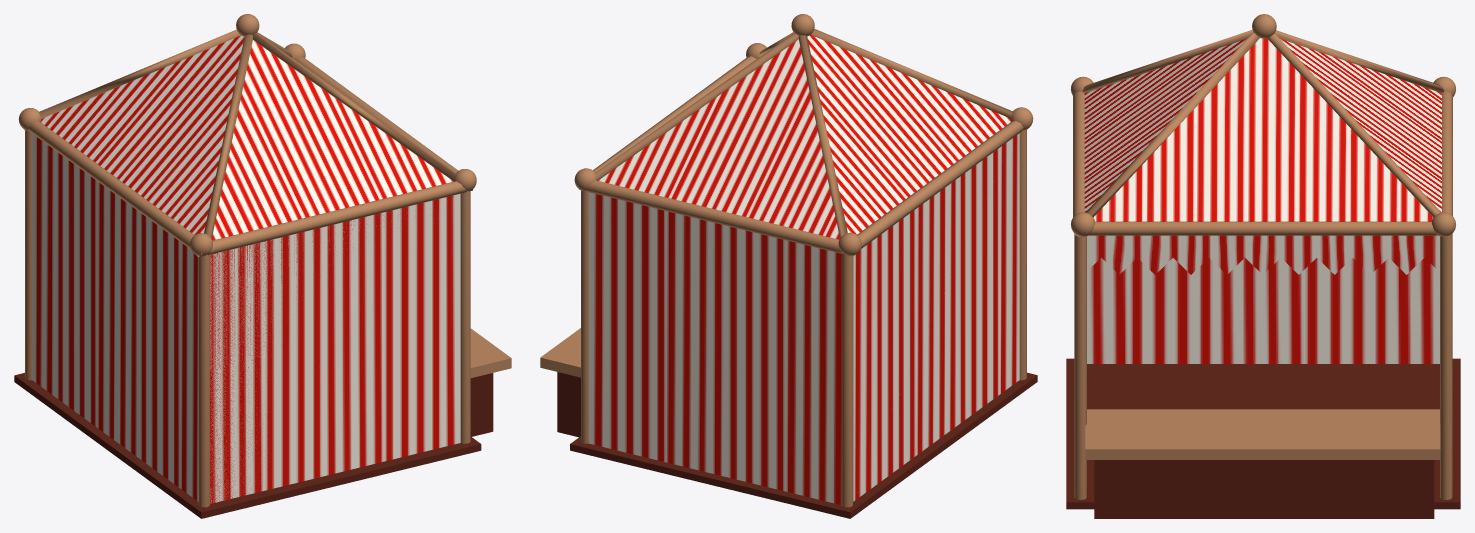
File: carnival_booth_3.fbx
3 views of the same model, side by side, from view 1: azimuth 30°, elevation 25°; view 2: azimuth 150°, elevation 25°; view 3: azimuth 270°, elevation 25° (orthographic). The views are drawn at different scales.
Visible parts, largest first — view 1: Plane.007, Cylinder.006, Cube.004, Cylinder.005, Cylinder.007, Cylinder.008, Cube.002, Icosphere.003, Cube.003; view 2: Plane.007, Cylinder.006, Cube.004, Cylinder.005, Cylinder.007, Cylinder.008, Cube.002, Icosphere.003, Cube.003; view 3: Plane.007, Cube.002, Cube.004, Cube.003, Cylinder.005, Cylinder.006, Cylinder.007, Cylinder.008, Icosphere.003, Icosphere.002.
Boxes of the visible parts, x1,y1,x2,y2 form: Plane.007: (32,35,460,503); Cylinder.006: (25,130,470,507); Cube.004: (14,373,481,518); Cylinder.005: (39,29,456,238); Cylinder.007: (28,57,458,249); Cylinder.008: (24,129,472,257); Cube.002: (470,373,493,436); Icosphere.003: (18,43,476,255); Cube.003: (470,328,511,377); Plane.007: (589,35,1019,504); Cylinder.006: (581,129,1026,507); Cube.004: (570,372,1037,518); Cylinder.005: (595,29,1012,237); Cylinder.007: (593,56,1023,248); Cylinder.008: (579,128,1028,256); Cube.002: (557,372,580,437); Icosphere.003: (574,43,1033,255); Cube.003: (540,328,580,377); Plane.007: (1084,38,1441,363); Cube.002: (1094,460,1434,518); Cube.004: (1066,358,1460,509); Cube.003: (1085,409,1440,459); Cylinder.005: (1083,29,1443,217); Cylinder.006: (1074,233,1452,499); Cylinder.007: (1089,221,1437,235); Cylinder.008: (1073,91,1452,236); Icosphere.003: (1071,76,1455,236); Icosphere.002: (1252,14,1276,38).
Bounding box in the file's own units: 1229 × 1465 × 1240.
4 materials, 1 textured.
